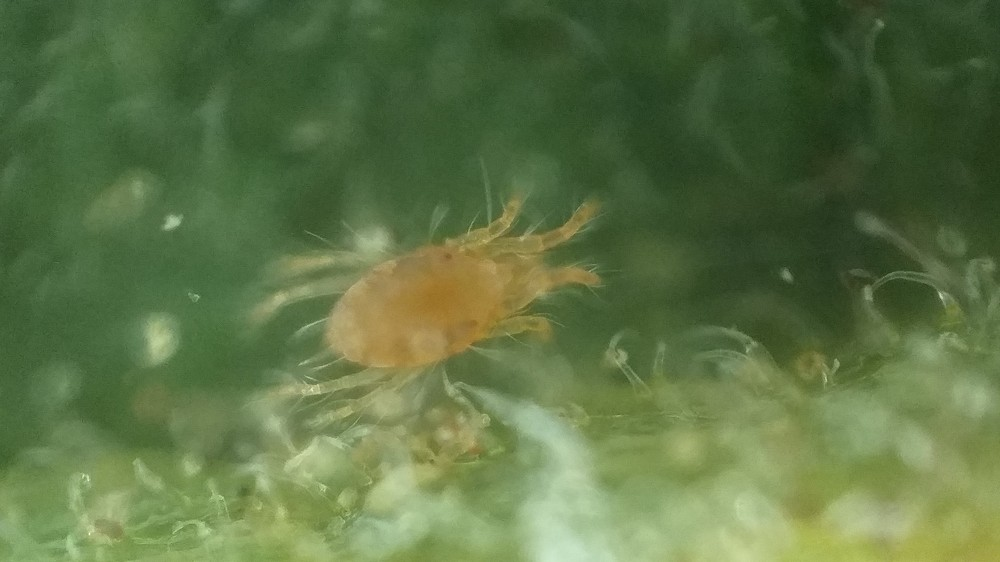Aracnido Rojo: (246, 151, 627, 447)
